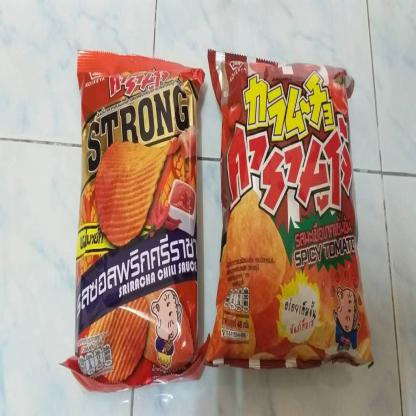potatochip: (204, 43, 375, 377), (68, 45, 206, 386)
